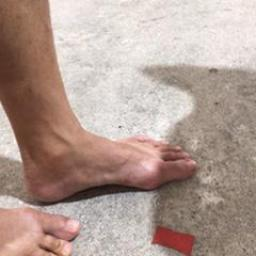Medial View -Left Foot-: (5, 120, 208, 206)
